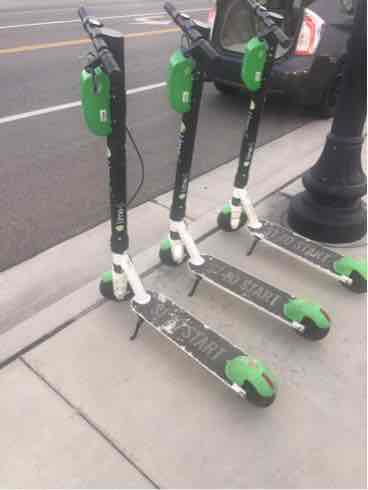too close: (83, 259, 149, 317), (141, 229, 208, 283), (204, 194, 267, 243)
